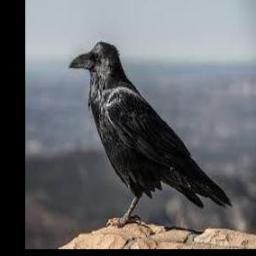Crow: (69, 41, 233, 228)
